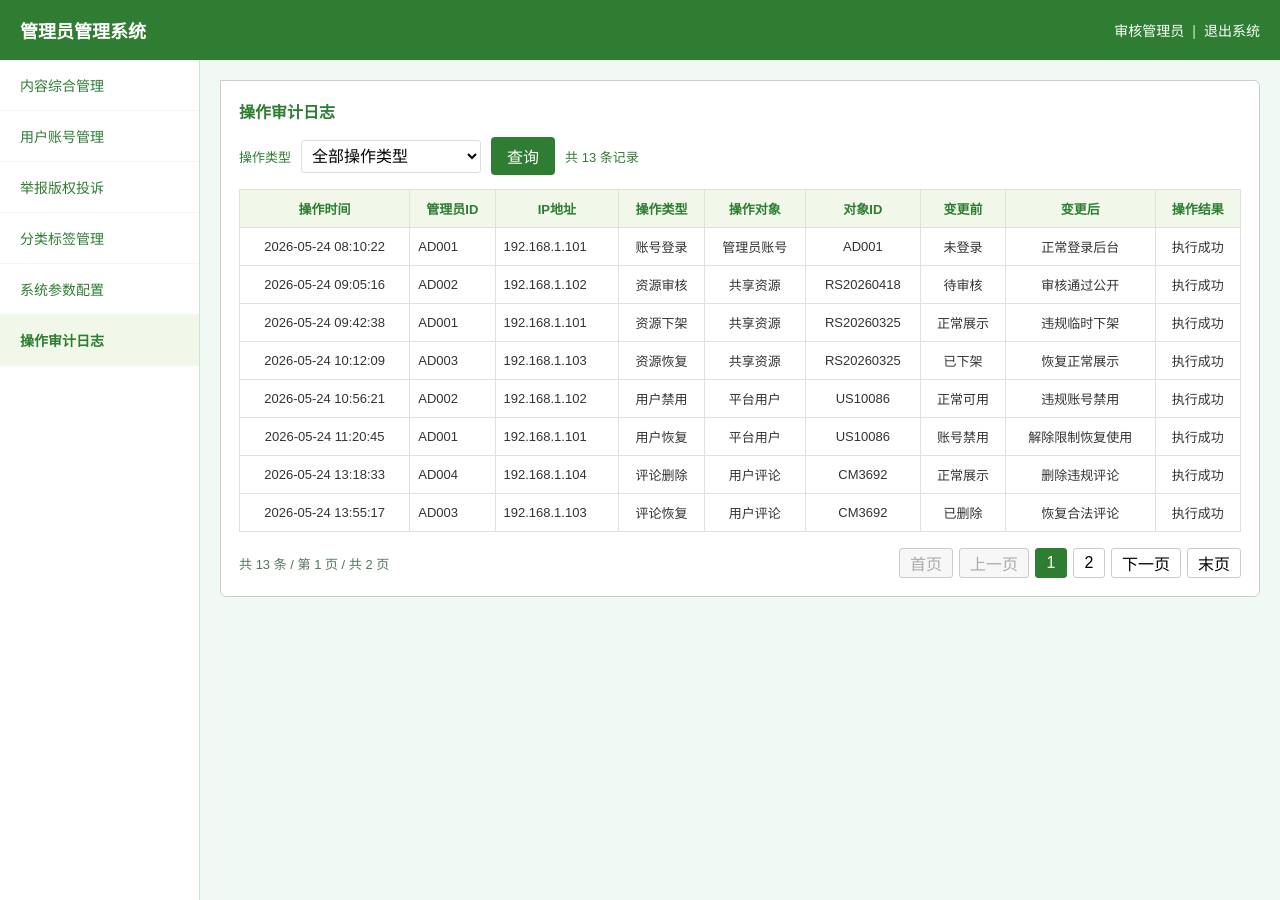
Test: Admin app shell › filters audit logs by selected operation type
Expected: the text "RS20260418" is shown, [805,266,920,304]
Select "账号登录" in the dropdown labelled "操作类型" at x=391, y=156, box [301,140,481,172]
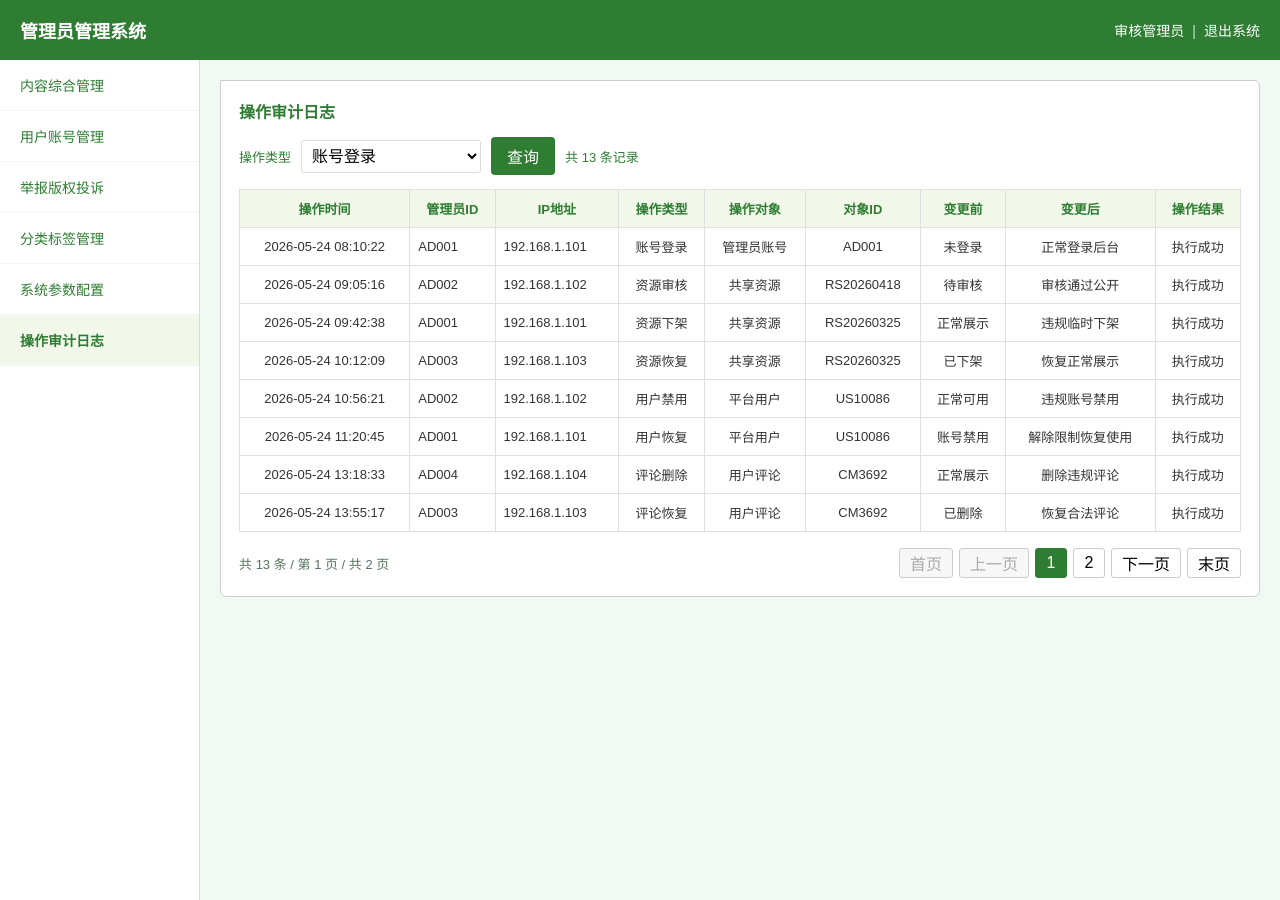
Click the button "查询".
click(523, 156)  # box [491,137,555,175]
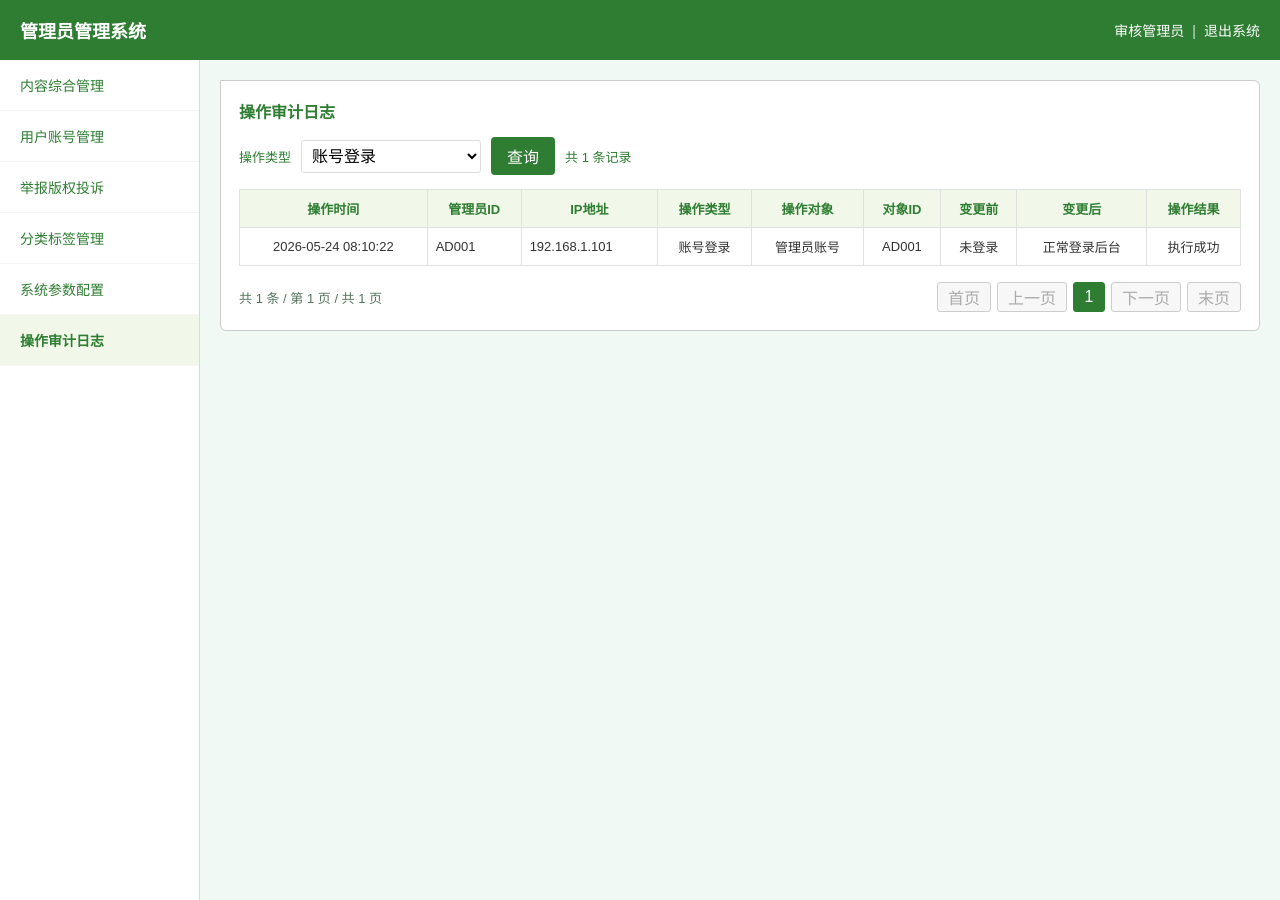
Now the text "RS20260418" is gone
Now the text "AD001" is shown 2 times, box [427,228,521,266]; [863,228,941,266]
Now the text "共 1 条记录" is shown, box [565,146,632,166]
